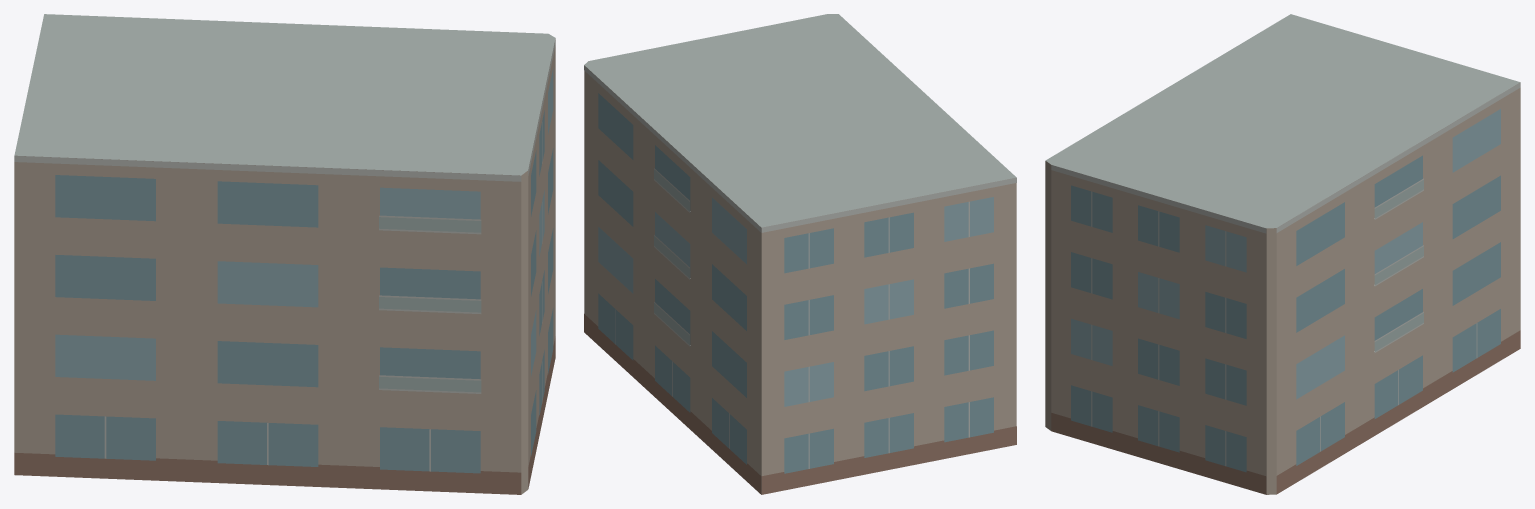
The model's file is survey-upis-32930740.glb.
3 renders of one model, left to right at view 1: azimuth 30°, elevation 25°; view 2: azimuth 150°, elevation 25°; view 3: azimuth 270°, elevation 25°, orthographic. The views are drawn at different scales.
Parts seen in each view (by area): view 1: survey-upis-32930740.tmp; view 2: survey-upis-32930740.tmp; view 3: survey-upis-32930740.tmp.
Part boxes in pixels (x1,y1,x2,y2): survey-upis-32930740.tmp: (14, 14, 555, 494); survey-upis-32930740.tmp: (584, 14, 1016, 494); survey-upis-32930740.tmp: (1045, 14, 1520, 494).
Size of the model in its own units: 21.23 by 12.3 by 19.89.
